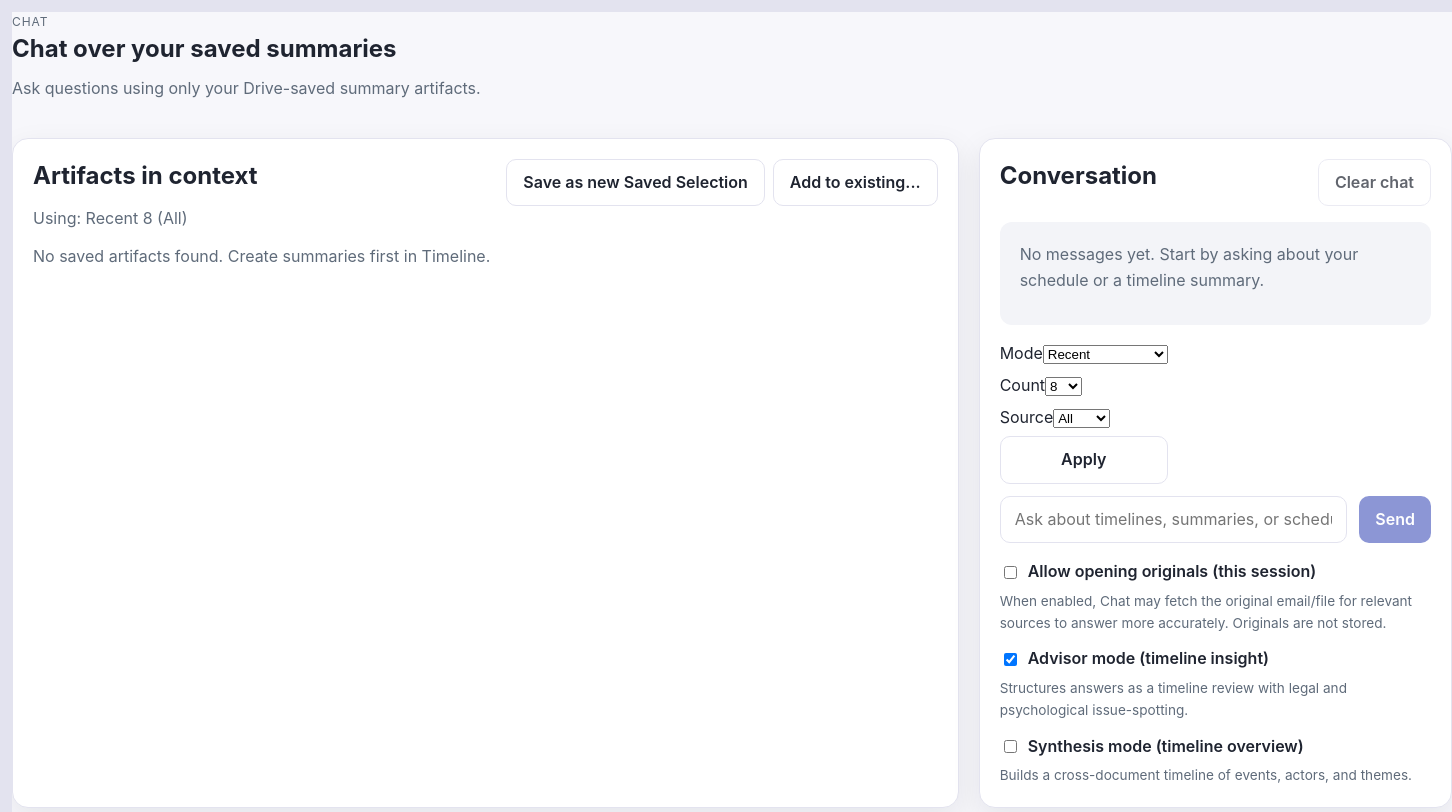
Test: ChatPageClient › shows mapped provider error message for code invalid_request
This screenshot has width=1452, height=812.
Type "trigger error" into the field named "chat input" at point(1174, 520), box [1000,496,1347,543]
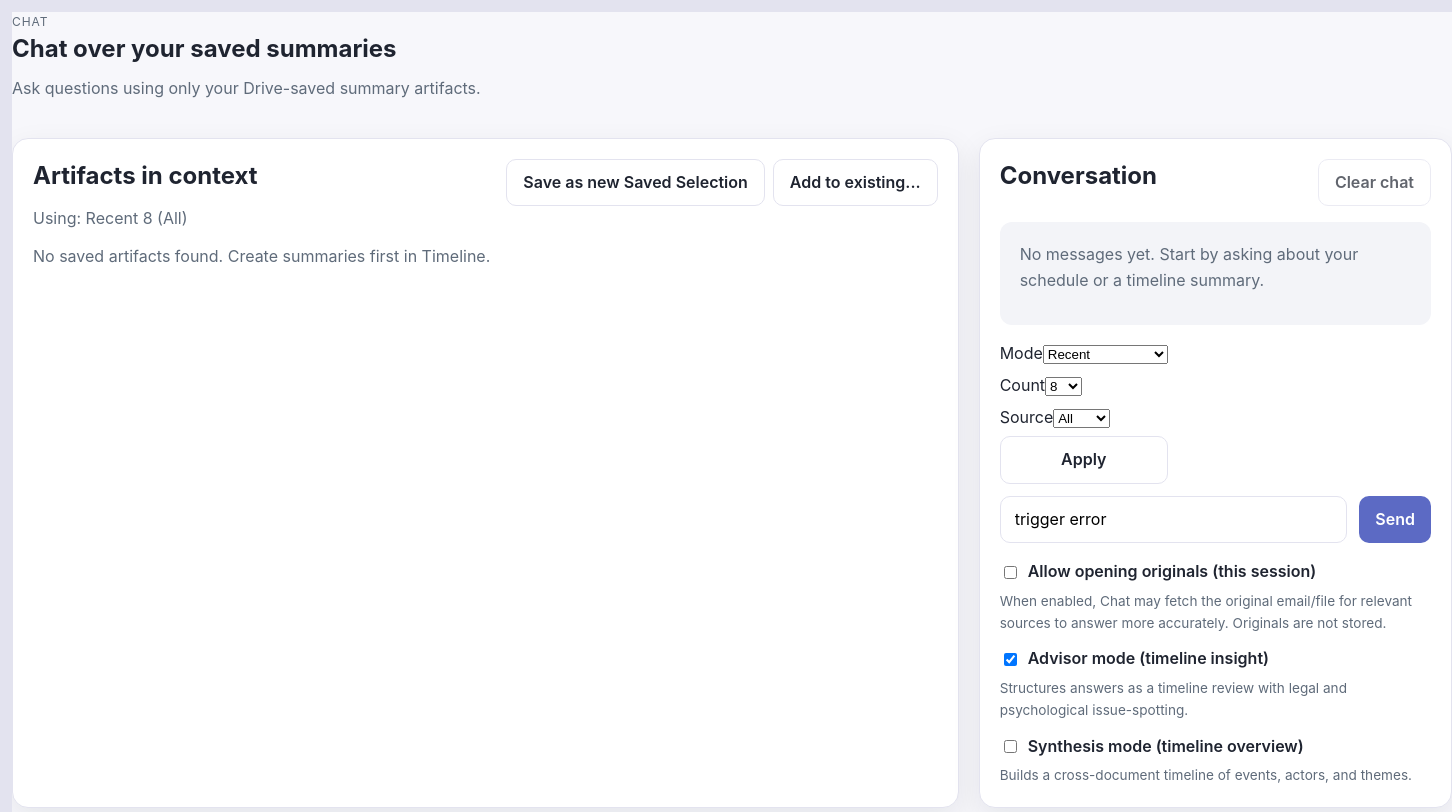
Click the button "Send" at point(1395, 520), box [1359,496,1431,543]
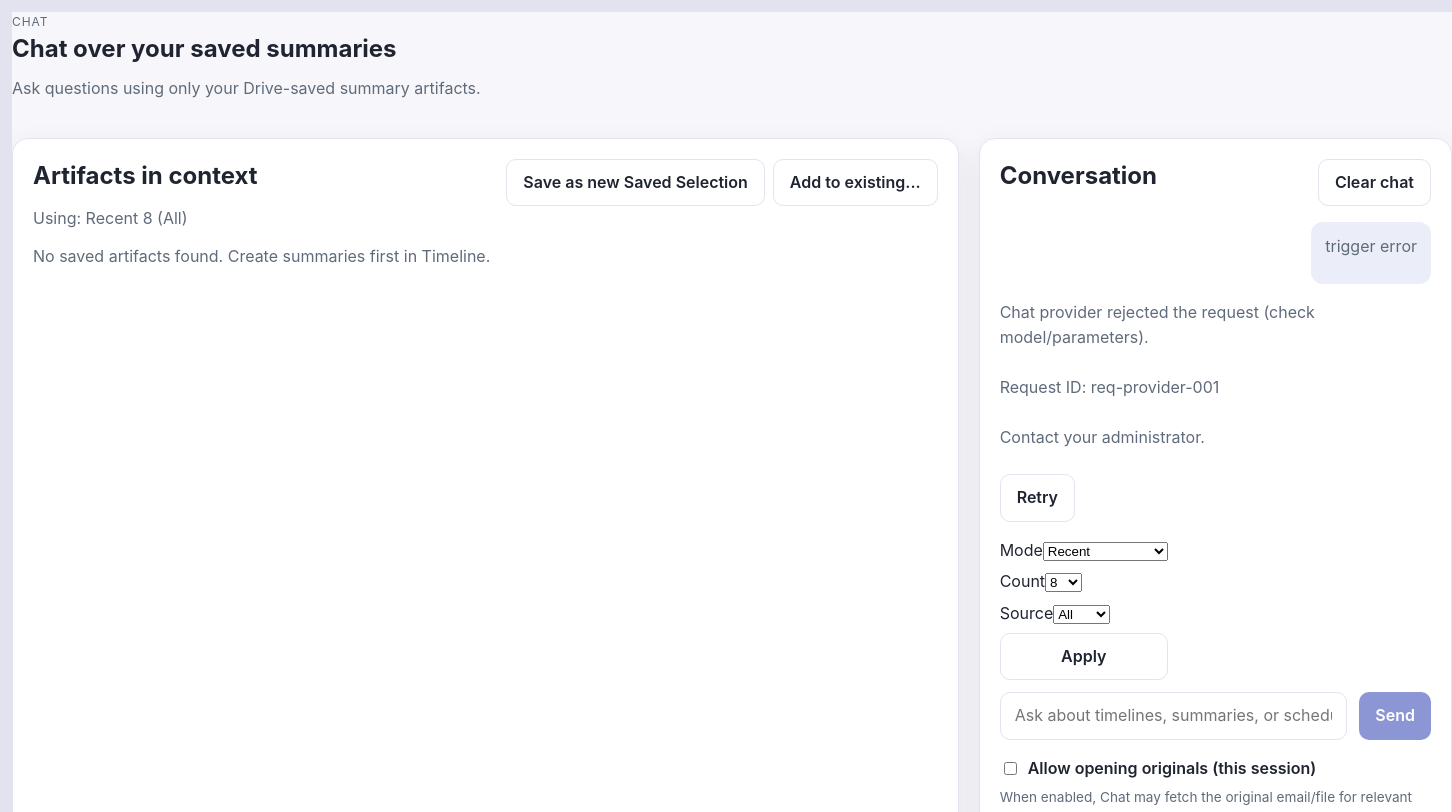
Expected: the text "Chat provider rejected the request (check model/parameters)." is shown, [1000,302,1315,347]
Expected: the text "Request ID: req-provider-001" is shown, [1000,377,1219,397]
